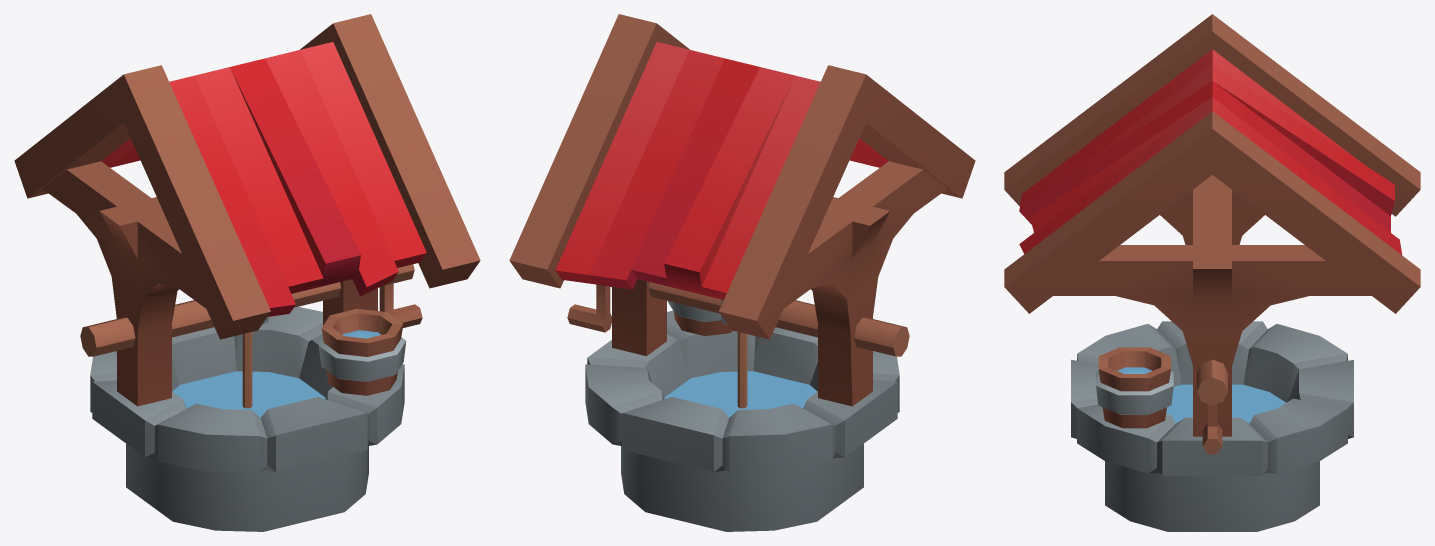
The model's file is building_well_red.glb.
3 renders of one model, left to right at view 1: azimuth 30°, elevation 25°; view 2: azimuth 150°, elevation 25°; view 3: azimuth 270°, elevation 25°, orthographic. The views are drawn at different scales.
Parts seen in each view (by area): view 1: building_well_red; view 2: building_well_red; view 3: building_well_red.
Part boxes in pixels (x1,y1,x2,y2): building_well_red: [14, 14, 480, 531]; building_well_red: [509, 14, 975, 531]; building_well_red: [1004, 14, 1420, 531].
Size of the model in its own units: 0.6518 by 0.826 by 0.7507.
Materials: 1 (1 with a texture image).
